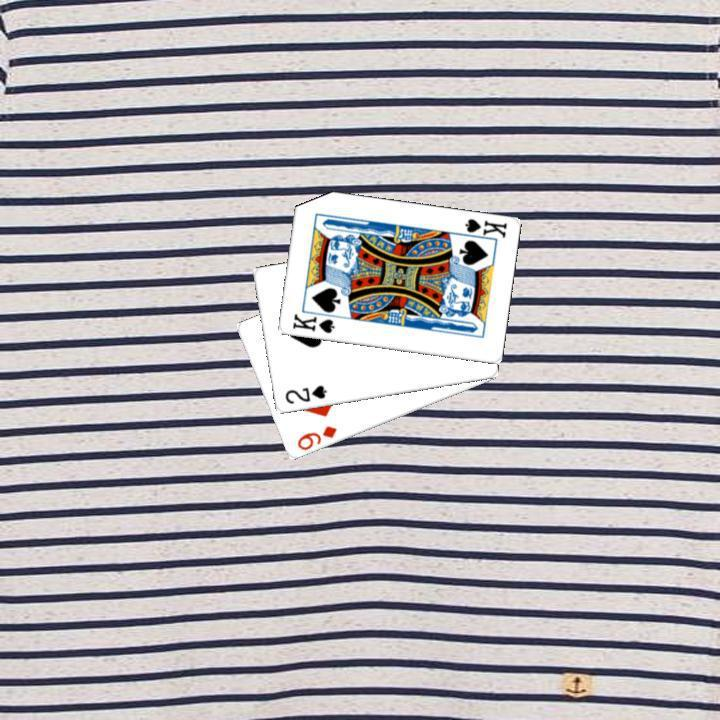2: (280, 381, 329, 406)
9: (293, 421, 339, 453)
K: (455, 214, 508, 244), (288, 310, 336, 336)
